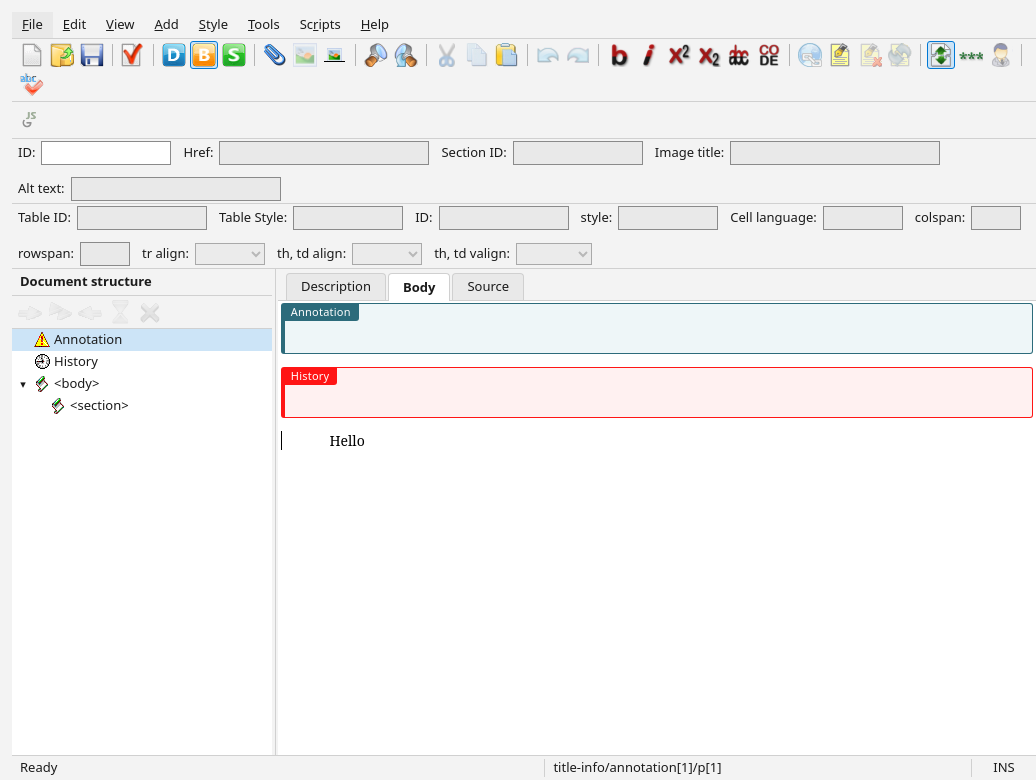
it: Source view (T050) › loads doc.toXml with elided binaries, tracks edits as modified and places the cursor on parse errors
The image size is (1036, 780).
Click the tab with test id "view-source" at (488, 286), box [452,273,524,300]
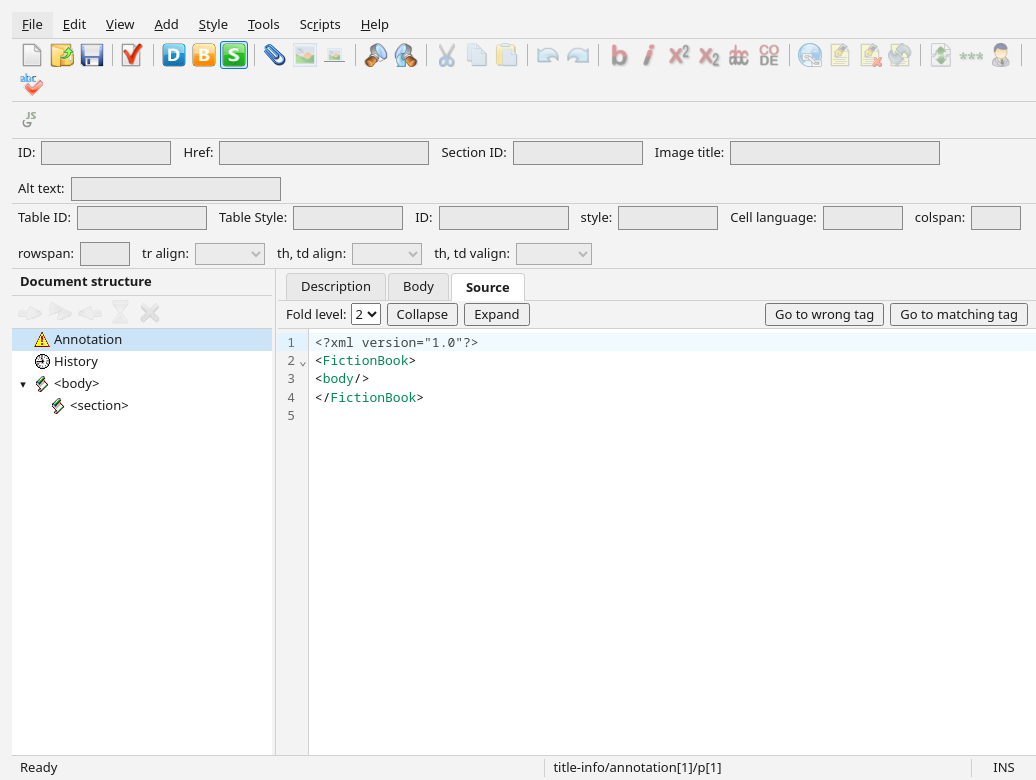
Expected: the field with test id "source-editor" shows "<FictionBook>", [309,333,1035,406]
Type keys "x"
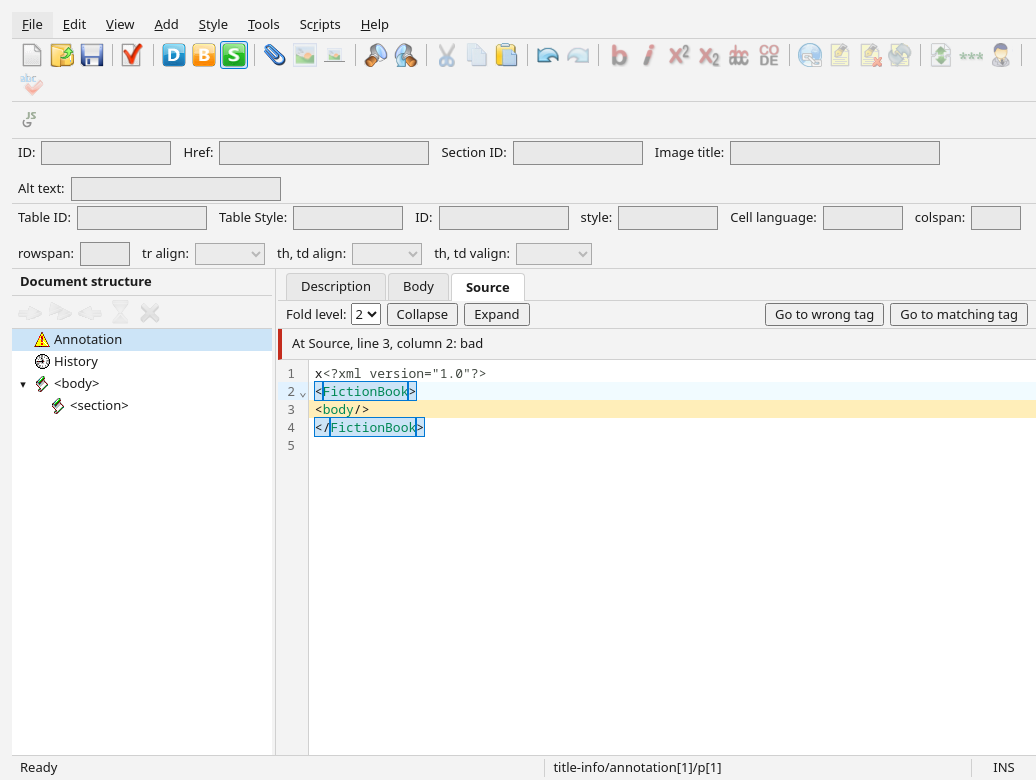
Expected: the text with test id "source-parse-error" shows "line 3, column 2: bad", [292,334,483,352]
